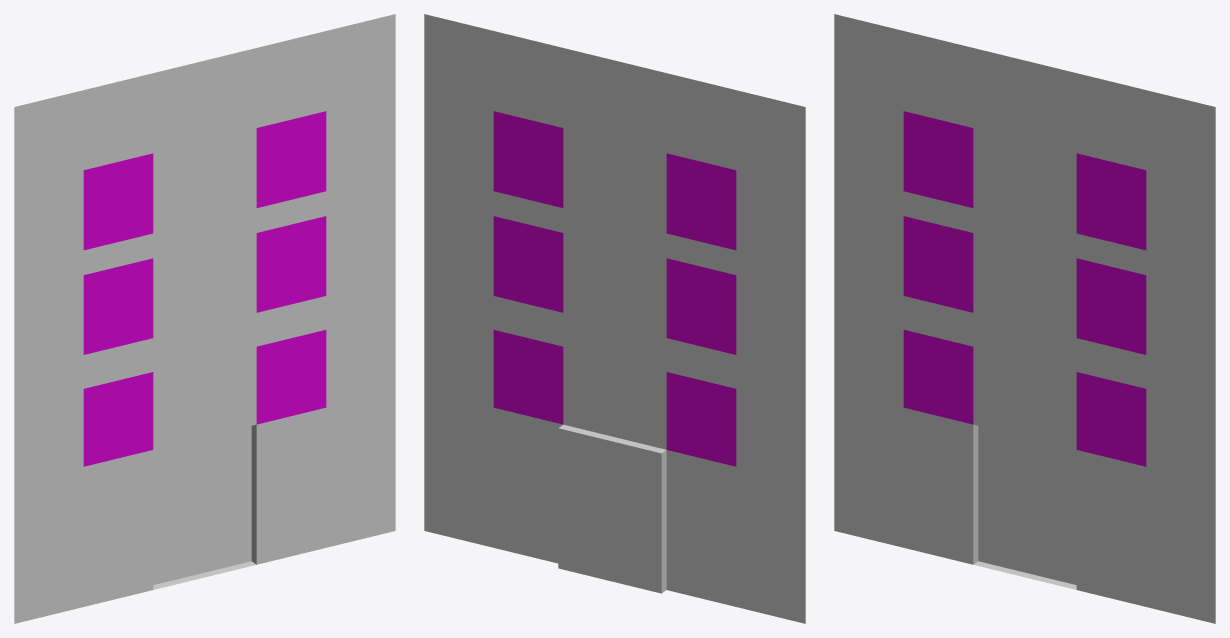
Rendered from SM_Building.fbx.
3 renders of one model, left to right at view 1: azimuth 30°, elevation 25°; view 2: azimuth 150°, elevation 25°; view 3: azimuth 330°, elevation 25°, orthographic.
Visible parts, largest first — view 1: Plane.014; view 2: Plane.014; view 3: Plane.014.
Boxes of the visible parts, x1,y1,x2,y2 form: Plane.014: (14,14,395,623); Plane.014: (424,14,805,623); Plane.014: (834,14,1215,623).
Size of the model in its own units: 6 by 7.77 by 0.1349.
